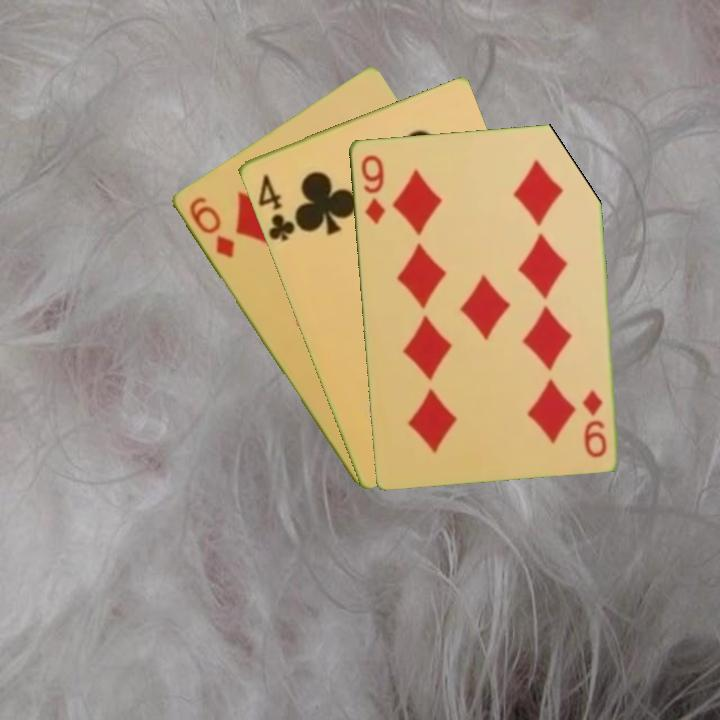4c: (253, 170, 298, 244)
6d: (185, 193, 237, 261)
9d: (357, 150, 387, 227), (578, 386, 609, 460)
